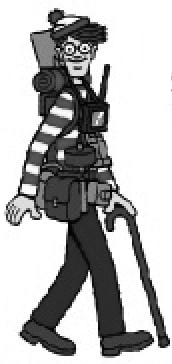Waldo: (1, 3, 171, 355)
